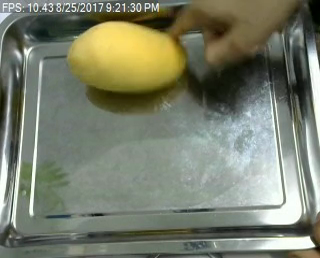Mango: (65, 20, 188, 94)
